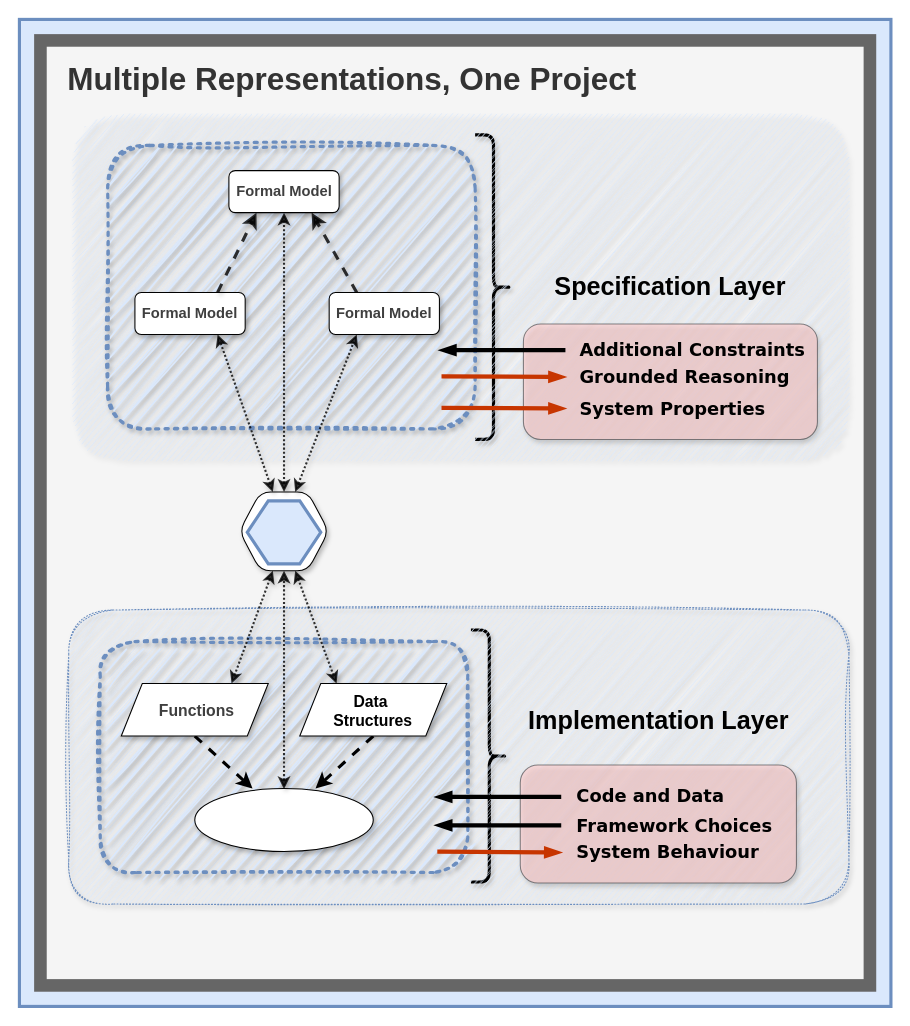
This 910x1026 diagram has some shape labels left out. Here are the shapes that lost their labels. From the top down, the centre of each, then its label:
(x=283, y=532): LLM
(x=285, y=821): Application
